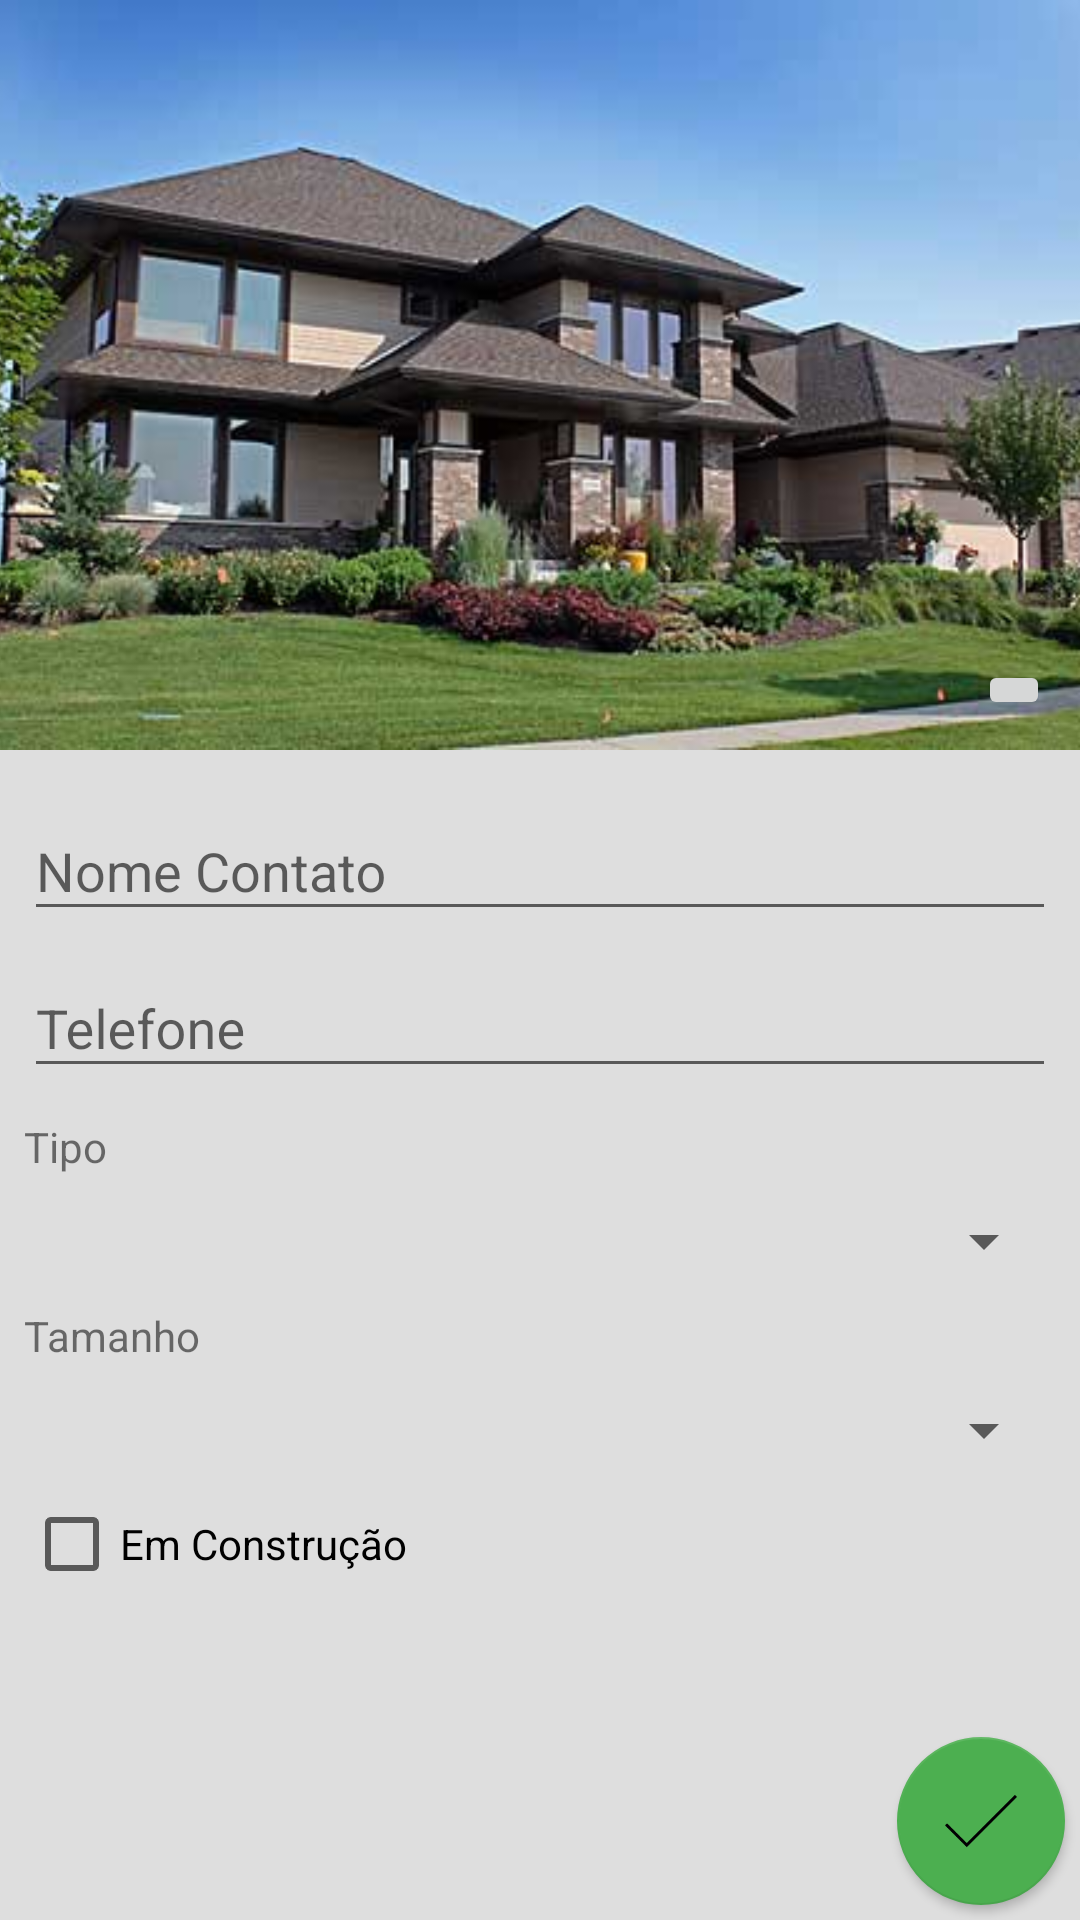

Screen size 1080w x 1920h. Icon name, then its box in pixels as region(x1, y1, x2, y2):
approve: region(897, 1737, 1065, 1905)
